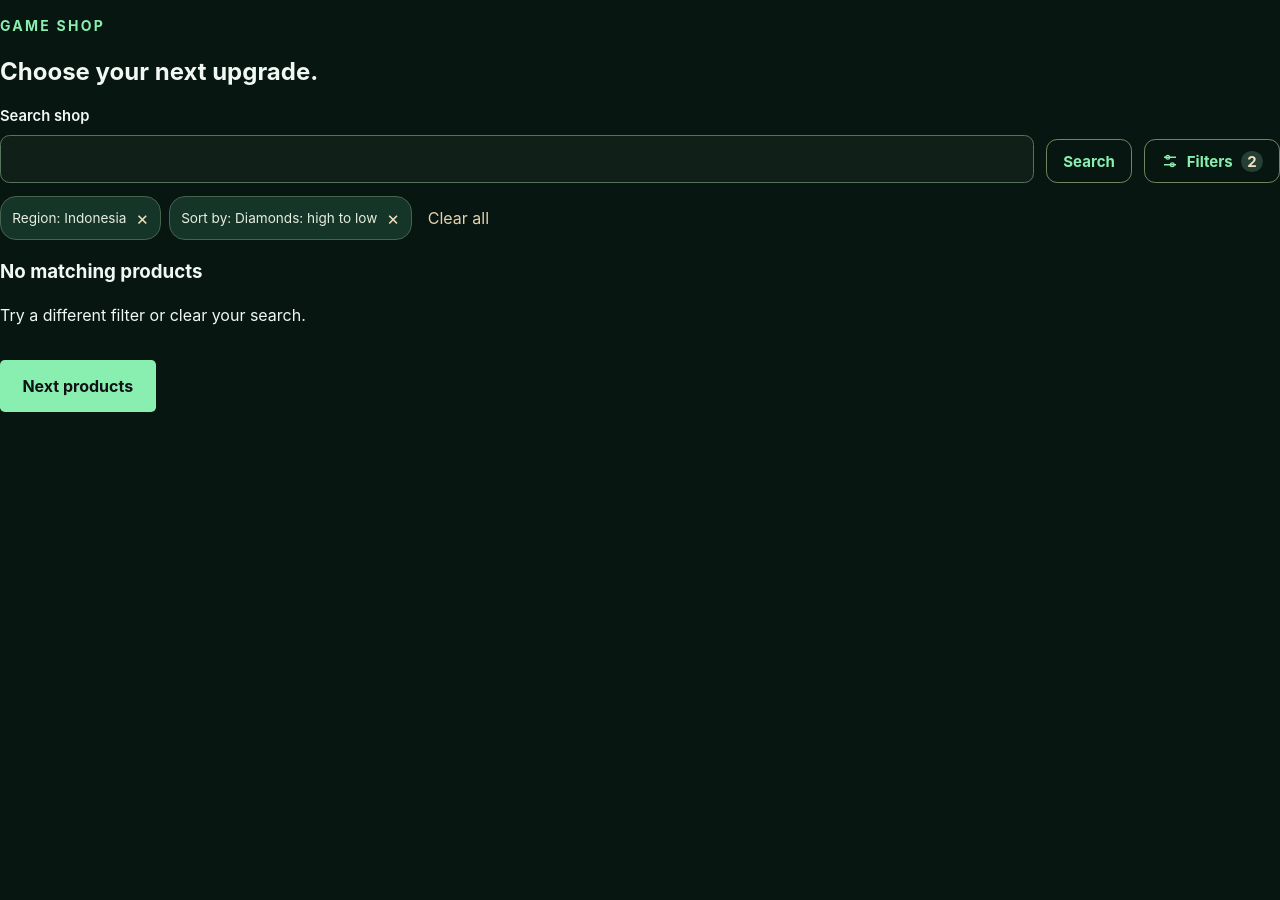
Test: restores diamonds_desc from the URL and clears to the default
The width and height of the screenshot is (1280, 900).
Click the button "Filters 2": x=1212, y=162 1144,140 -> 1279,184
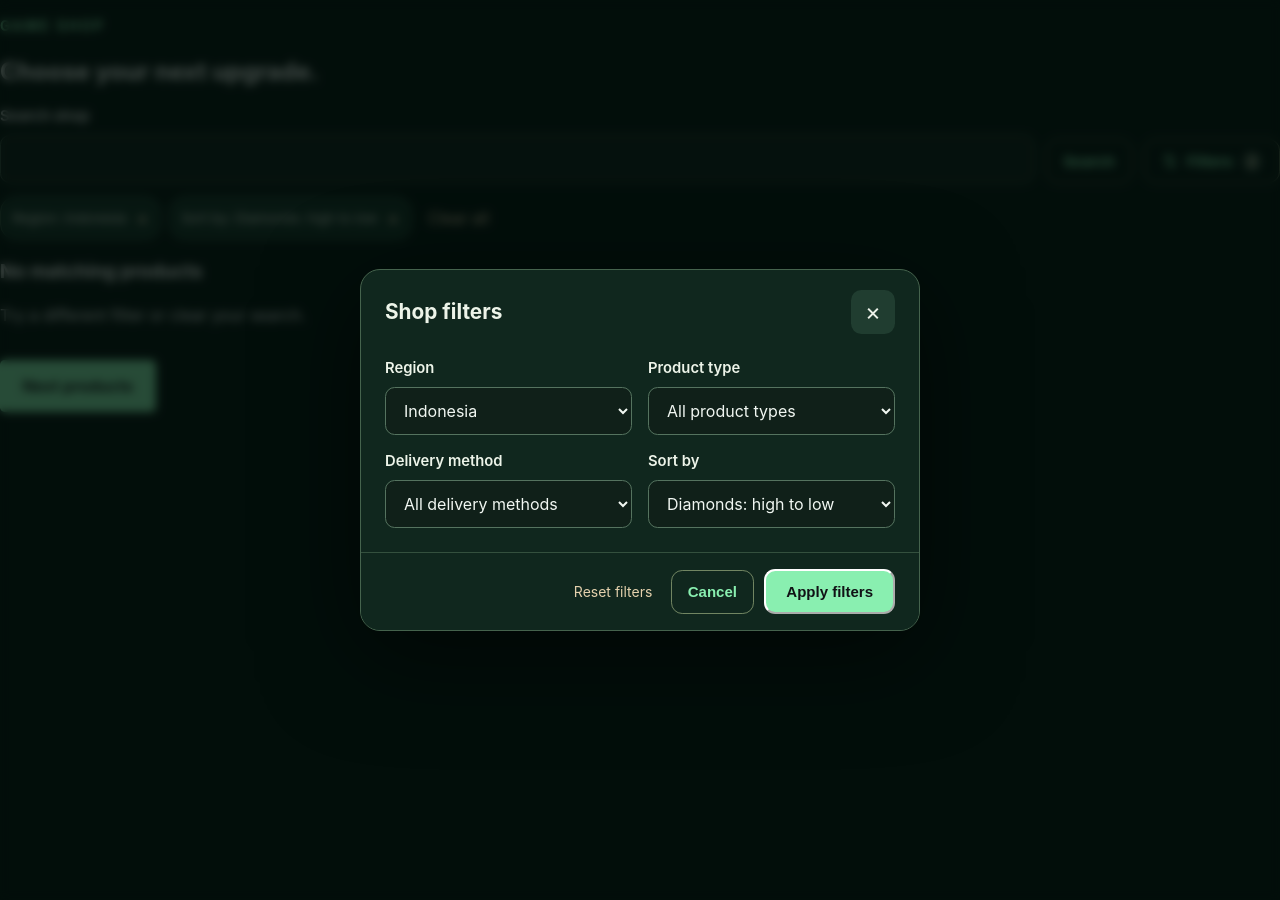
expect the dropdown labelled "Sort by" shows "Diamonds: high to low": met, box 648,480 -> 895,528
Click the button "Cancel": x=712, y=592 671,570 -> 754,614
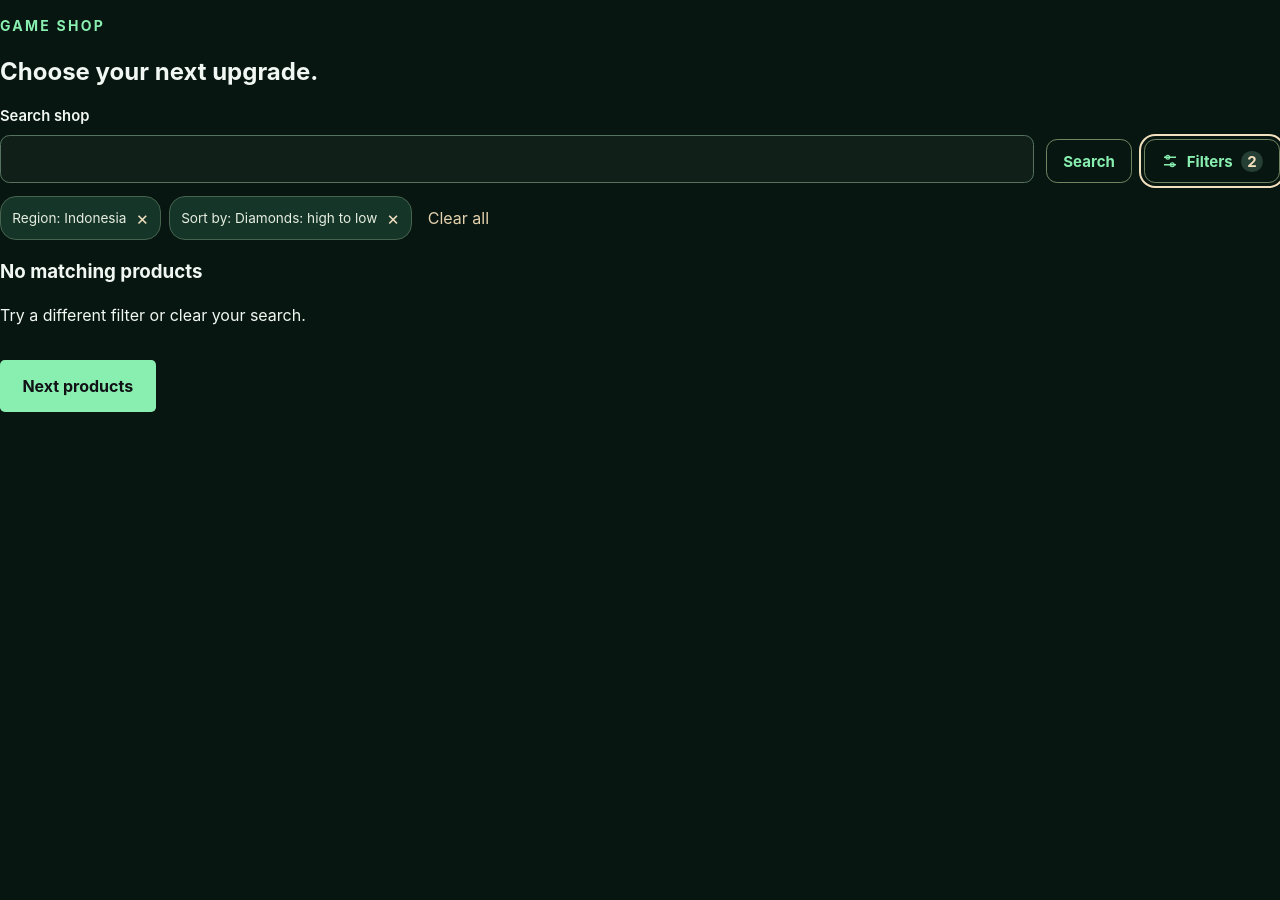
Click the button "Clear all": x=458, y=218 420,196 -> 497,240
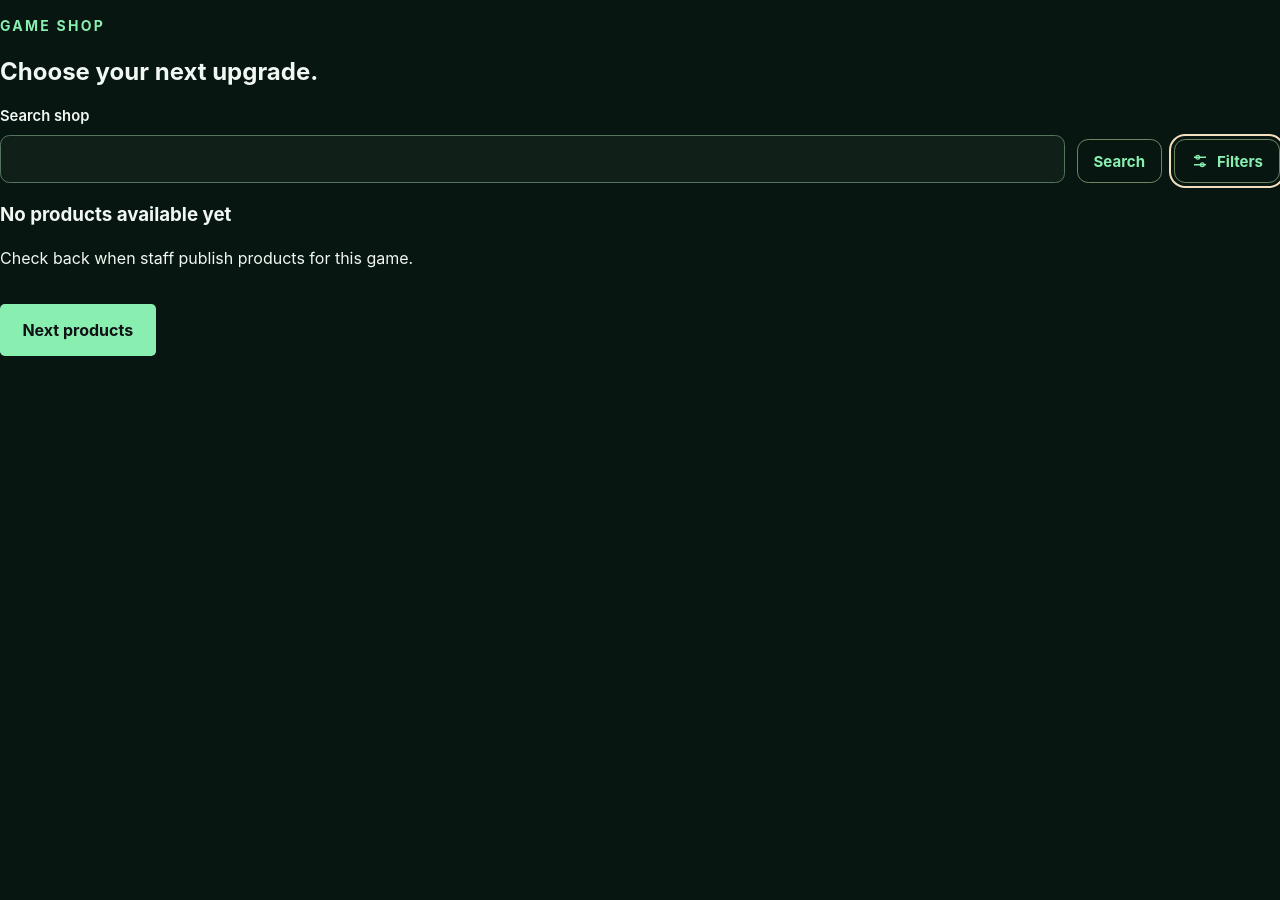
Click the button "Filters": x=1227, y=162 1174,140 -> 1279,184
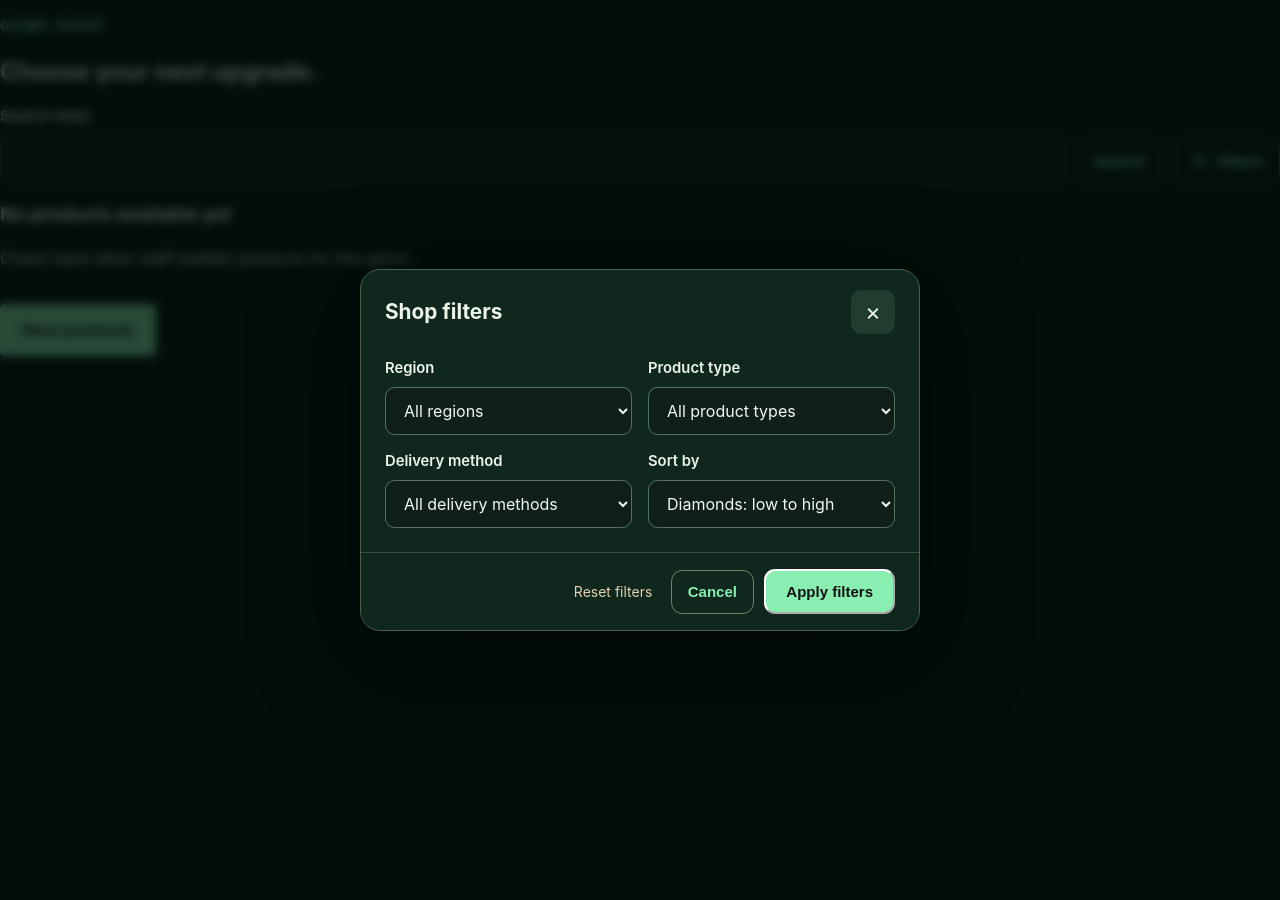
expect the dropdown labelled "Sort by" shows "Diamonds: low to high": met, box 648,480 -> 895,528
expect the dropdown labelled "Region" shows "All regions": met, box 385,387 -> 632,435
